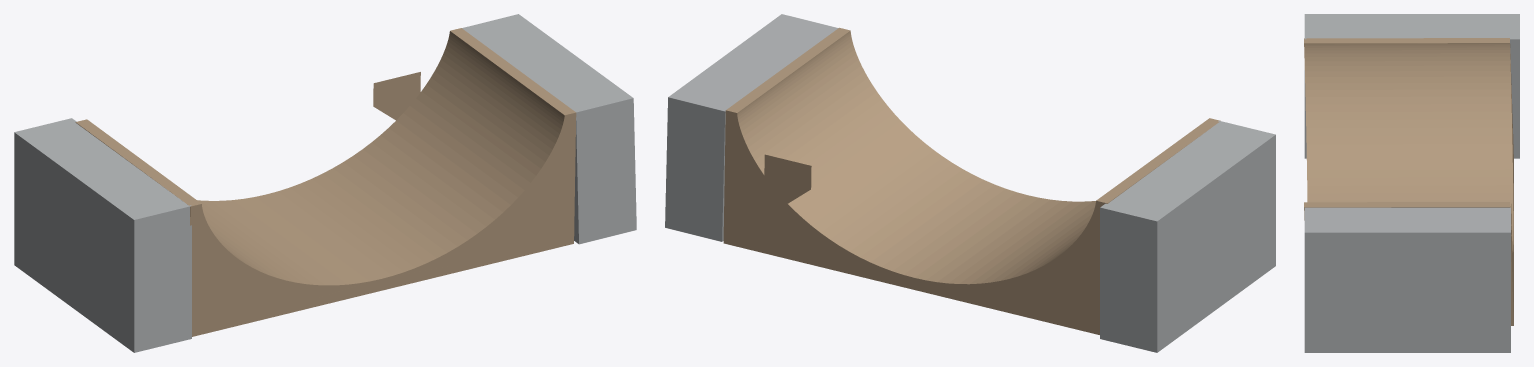
The model's file is halfpipe.glb.
The picture shows the model from 3 angles, left to right: view 1: azimuth 30°, elevation 25°; view 2: azimuth 150°, elevation 25°; view 3: azimuth 270°, elevation 25°; orthographic projection. The views are drawn at different scales.
Parts seen in each view (by area): view 1: Mesh_Mesh_head_geo.001_lambert2SG.001; view 2: Mesh_Mesh_head_geo.001_lambert2SG.001; view 3: Mesh_Mesh_head_geo.001_lambert2SG.001.
Part boxes in pixels (left/top/right/bottom): Mesh_Mesh_head_geo.001_lambert2SG.001: left=14, top=14, right=636, bottom=352; Mesh_Mesh_head_geo.001_lambert2SG.001: left=665, top=14, right=1275, bottom=352; Mesh_Mesh_head_geo.001_lambert2SG.001: left=1304, top=14, right=1519, bottom=352.
Size of the model in its own units: 0.1741 by 0.0442 by 0.0722.
